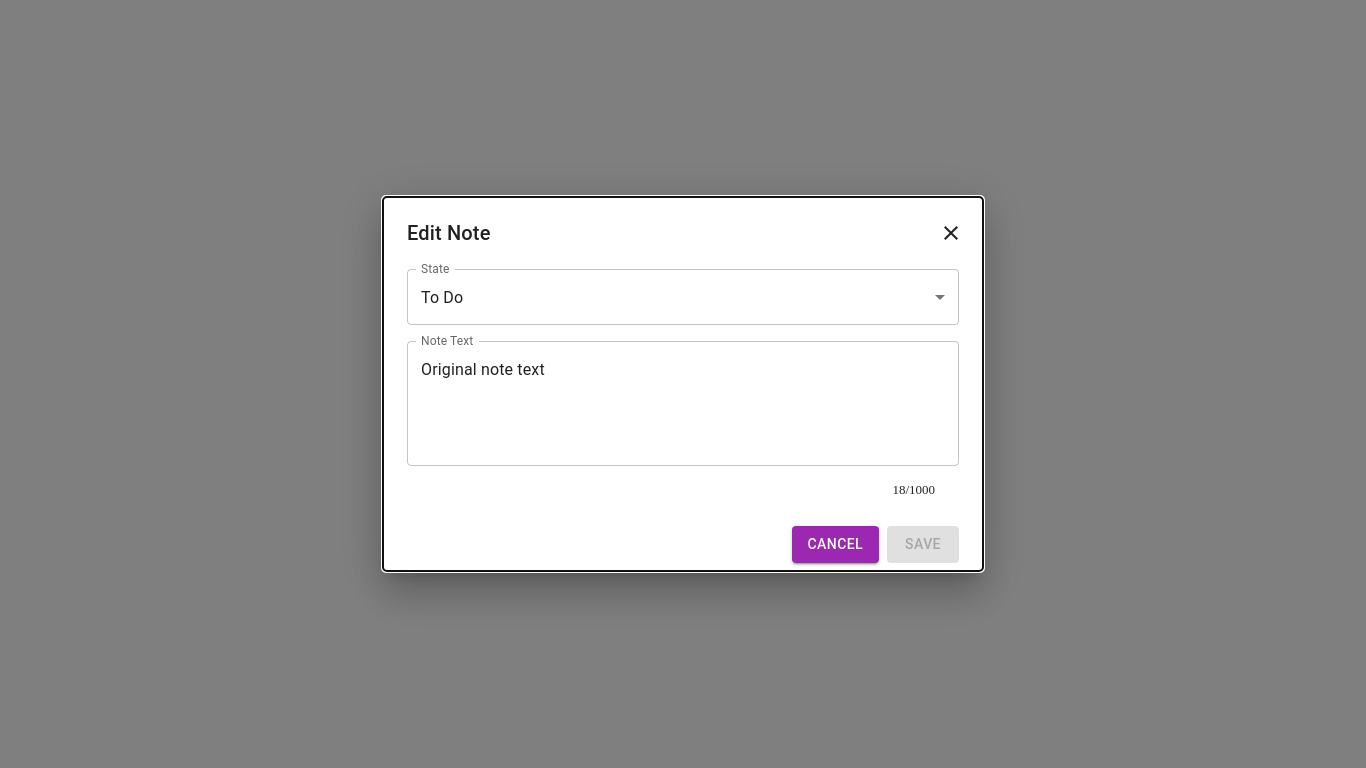
Test: EditNoteModal › Form validation and save state › enables save button when text is changed
Type " additional text" into the text box labelled "Note Text". click: point(683, 404)
box: [421,358,945,450]
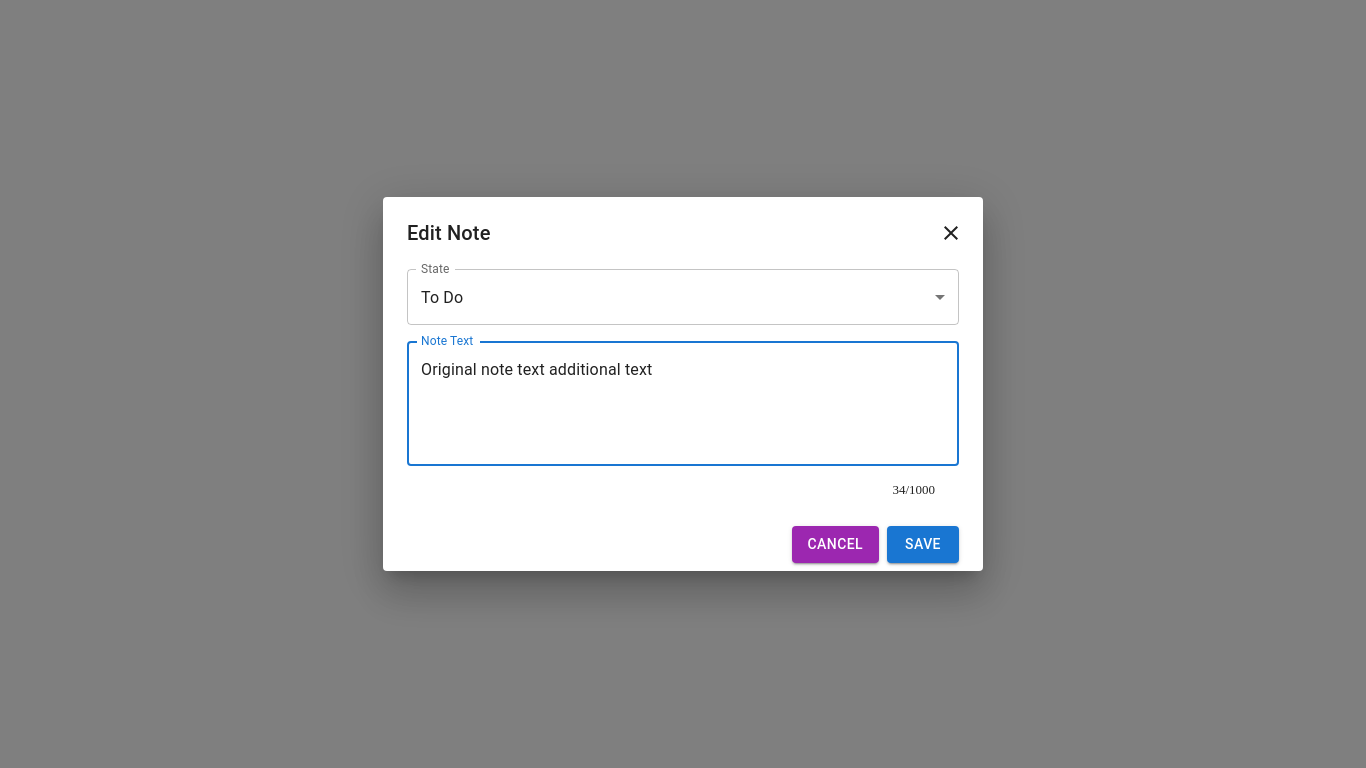
Now the button "Save" is enabled, box [887,526,959,563]
